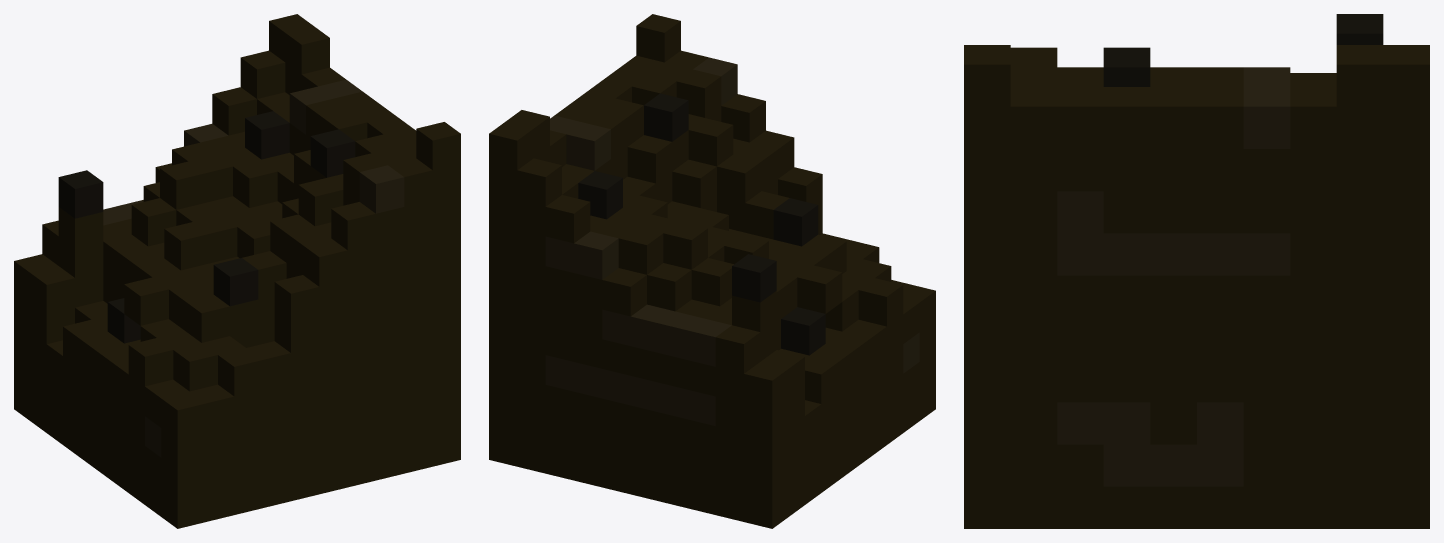
File: staricase block.obj
3 renders of one model, left to right at view 1: azimuth 30°, elevation 25°; view 2: azimuth 150°, elevation 25°; view 3: azimuth 270°, elevation 25°, orthographic. The views are drawn at different scales.
Bounding box in the file's own units: 1 × 1.1 × 1.
Materials: 1 (1 with a texture image).
